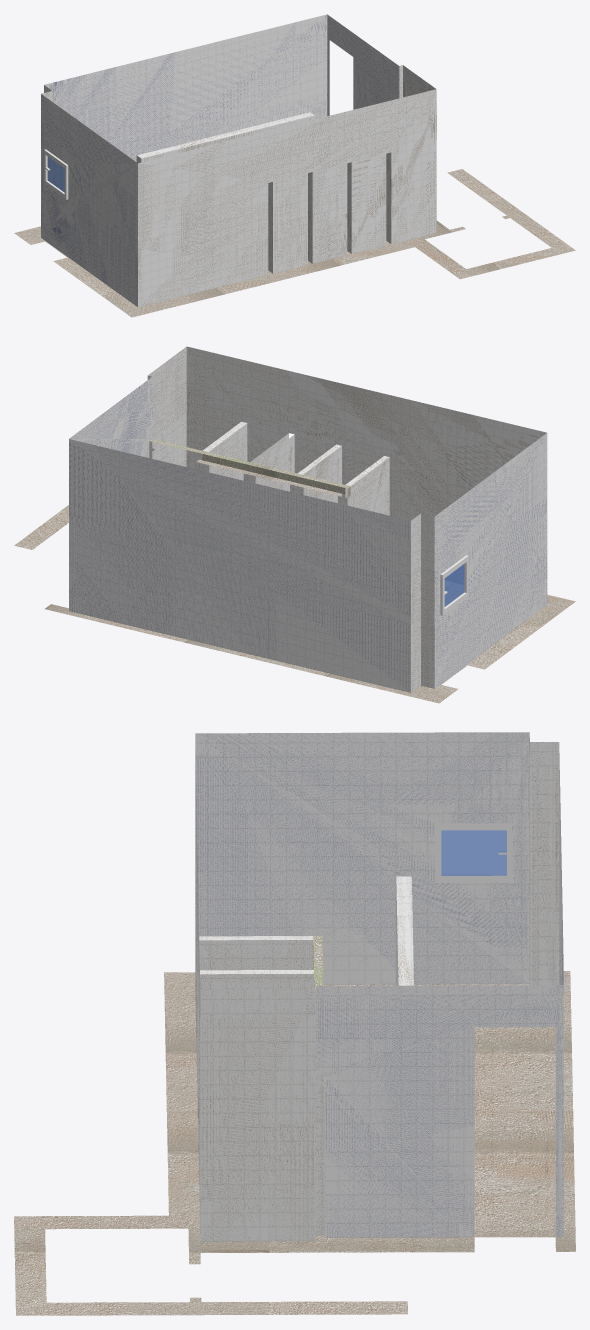
The model's file is COM033.obj.
3 views of the same model, one above another, from view 1: azimuth 30°, elevation 25°; view 2: azimuth 150°, elevation 25°; view 3: azimuth 270°, elevation 25° (orthographic). The views are drawn at different scales.
Visible parts, largest first — view 1: Mesh18 COM033 Model, Mesh15 ventana3_1 COM033 Model; view 2: Mesh18 COM033 Model, Mesh15 ventana3_1 COM033 Model; view 3: Mesh18 COM033 Model, Mesh15 ventana3_1 COM033 Model.
Boxes of the visible parts, bbox=[...] form: Mesh18 COM033 Model: bbox=[14, 14, 575, 317]; Mesh15 ventana3_1 COM033 Model: bbox=[44, 149, 68, 199]; Mesh18 COM033 Model: bbox=[14, 346, 575, 703]; Mesh15 ventana3_1 COM033 Model: bbox=[440, 555, 468, 615]; Mesh18 COM033 Model: bbox=[14, 732, 575, 1315]; Mesh15 ventana3_1 COM033 Model: bbox=[435, 823, 512, 882].
Size of the model in its own units: 10.56 by 3.6 by 7.27.
7 materials, 3 textured.
